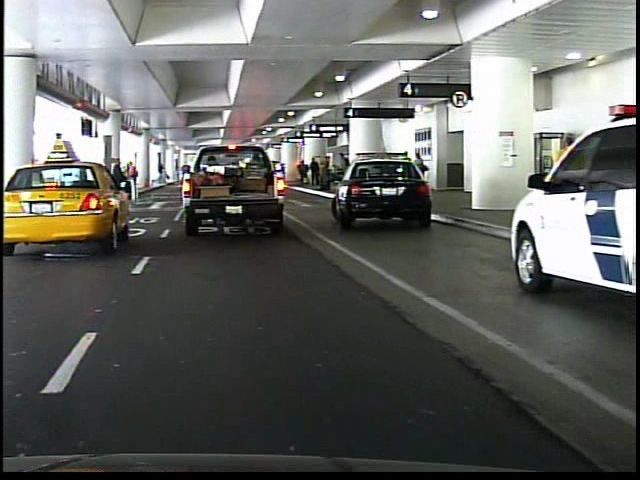person: (103, 155, 128, 220), (177, 150, 200, 203)
